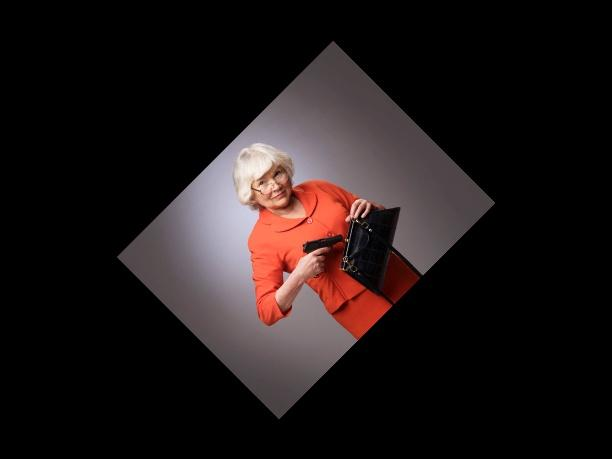weapon: (301, 232, 341, 271)
